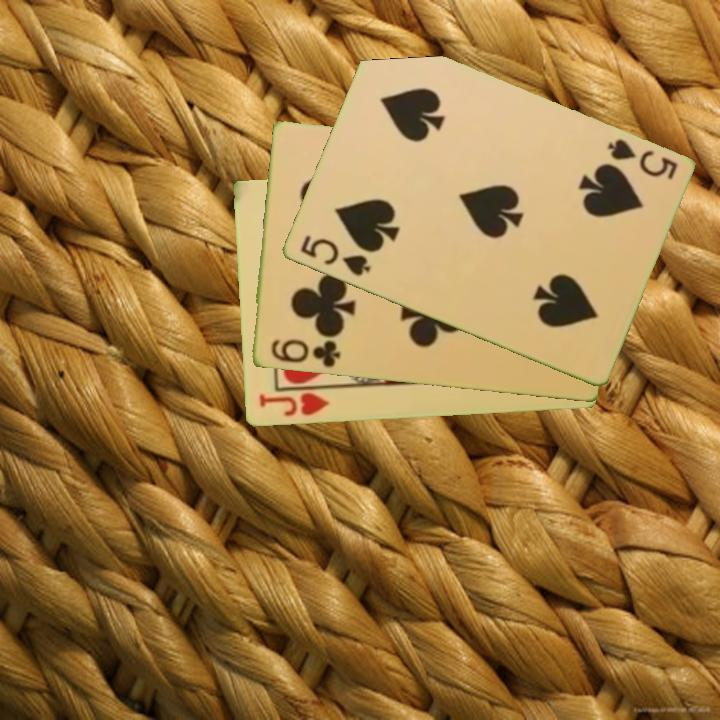5s: (296, 231, 373, 280), (603, 135, 680, 183)
6c: (267, 336, 343, 371)
Jh: (255, 389, 331, 420)
